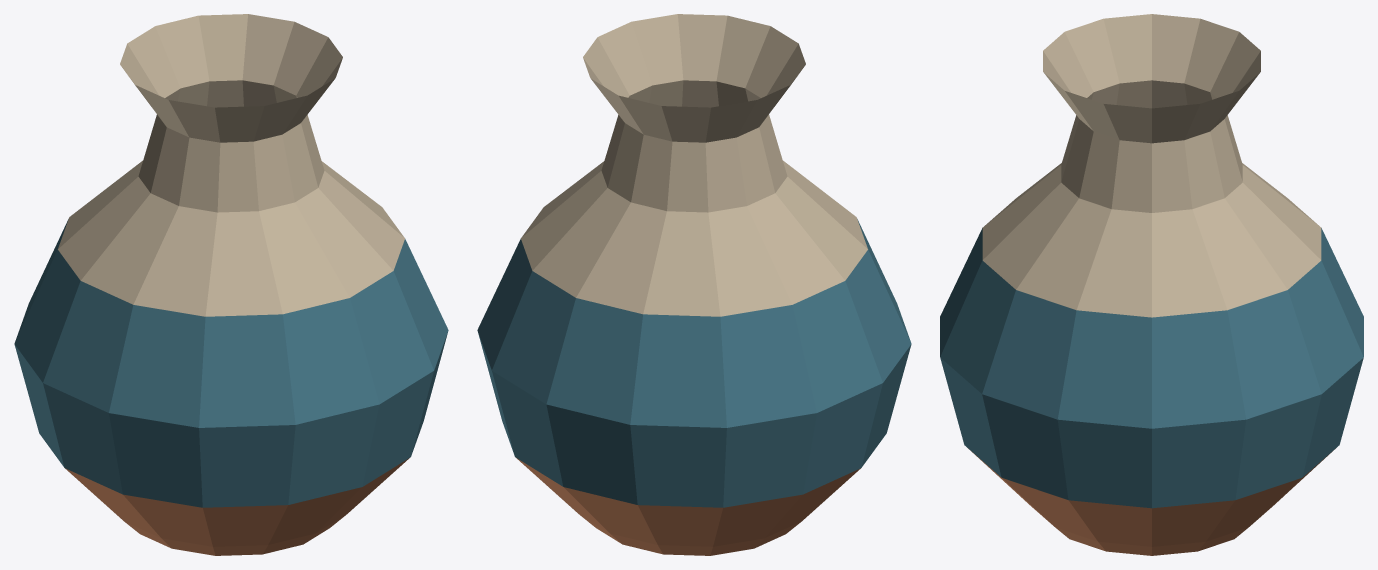
Rendered from vase.glb.
3 views of the same model, side by side, from view 1: azimuth 30°, elevation 25°; view 2: azimuth 150°, elevation 25°; view 3: azimuth 270°, elevation 25° (orthographic).
Visible parts, largest first — view 1: vase; view 2: vase; view 3: vase.
Boxes of the visible parts, x1,y1,x2,y2 form: vase: (14,14,448,555); vase: (477,14,911,555); vase: (940,14,1363,555).
Size of the model in its own units: 1.4 by 1.6 by 1.36.
